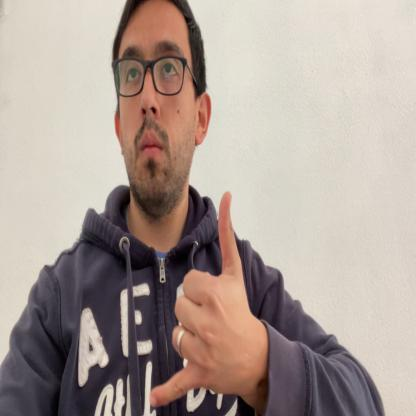Y: (151, 190, 260, 413)
